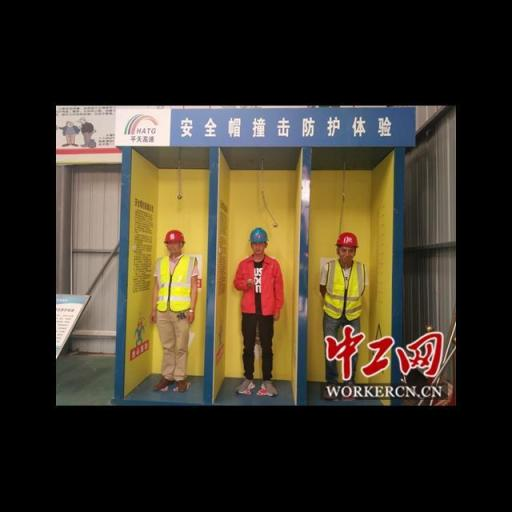Person: (317, 216, 380, 398), (231, 217, 293, 400), (148, 220, 210, 403)
boots: (258, 378, 280, 398), (234, 375, 254, 395), (176, 374, 194, 394), (323, 380, 340, 400), (343, 378, 360, 398), (155, 374, 170, 392)
helmet: (161, 226, 186, 245), (336, 231, 362, 249), (245, 226, 271, 244)
none: (234, 251, 288, 324)
vest: (320, 256, 367, 324), (153, 258, 200, 312)
